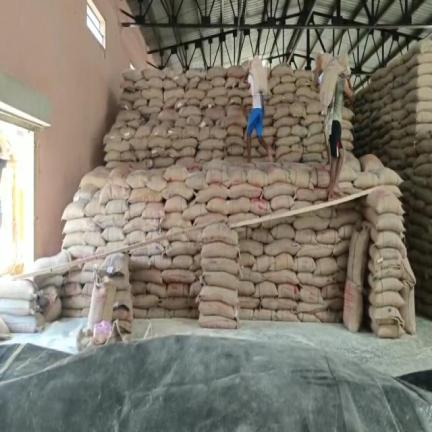Zone-Counting: (315, 53, 353, 198), (244, 56, 272, 160)
